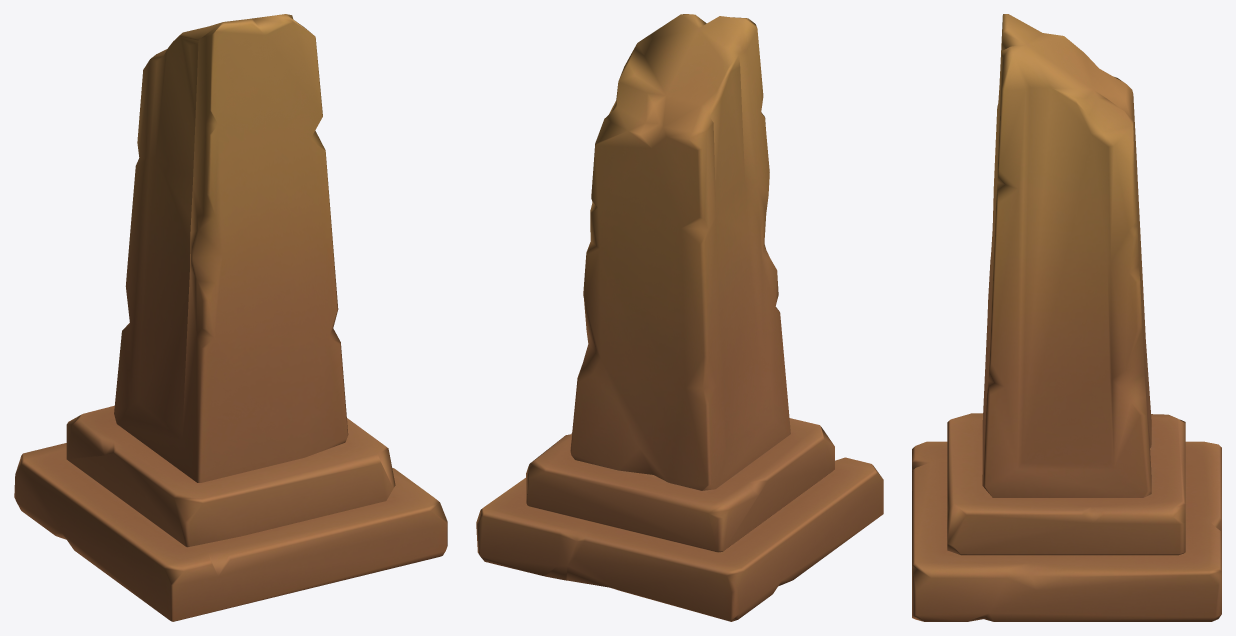
The model's file is map_obelisk_tripo.glb.
The picture shows the model from 3 angles, left to right: view 1: azimuth 30°, elevation 25°; view 2: azimuth 150°, elevation 25°; view 3: azimuth 270°, elevation 25°; orthographic projection. The views are drawn at different scales.
Parts seen in each view (by area): view 1: tripo_node_2bf0da0f-6c93-4821-a51a-7a1b8c4dd3a7; view 2: tripo_node_2bf0da0f-6c93-4821-a51a-7a1b8c4dd3a7; view 3: tripo_node_2bf0da0f-6c93-4821-a51a-7a1b8c4dd3a7.
Boxes of the visible parts, x1=… form: tripo_node_2bf0da0f-6c93-4821-a51a-7a1b8c4dd3a7: x1=14, y1=14, x2=447, y2=621; tripo_node_2bf0da0f-6c93-4821-a51a-7a1b8c4dd3a7: x1=476, y1=14, x2=883, y2=621; tripo_node_2bf0da0f-6c93-4821-a51a-7a1b8c4dd3a7: x1=912, y1=14, x2=1221, y2=621.
Bounding box in the file's own units: 0.5371 × 0.998 × 0.5332.
Materials: 1 (1 with a texture image).
